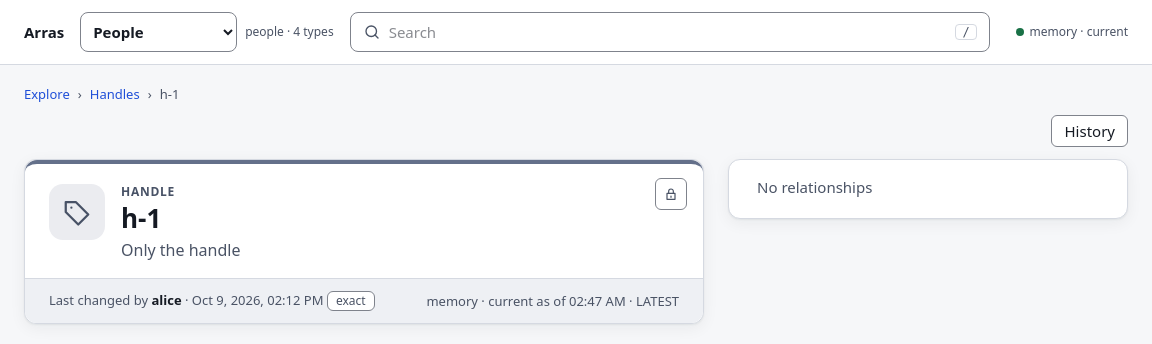
Test case: header pencils on a module that is not the catalog › never edits a title that is the key, but edits the summary beside it
Click the button named "Edit mode".
click(671, 194)  # box [655, 178, 687, 210]
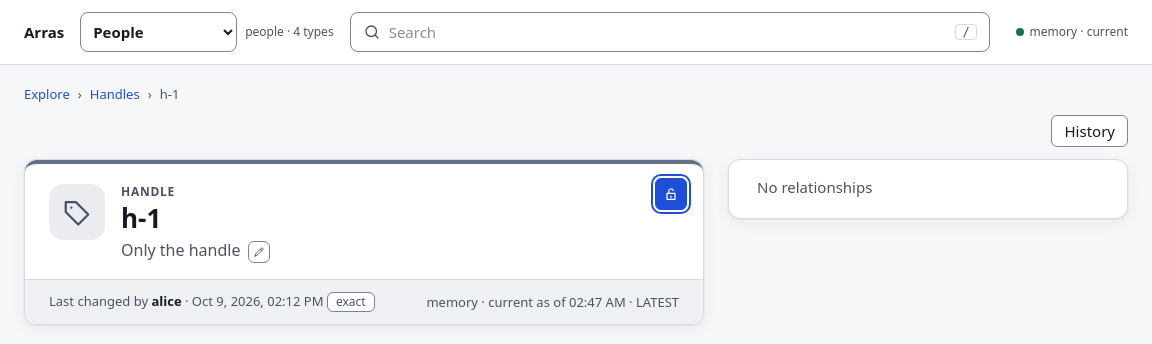
Result: the number of buttons named "Edit About" is 1 at [248, 241, 270, 263]
